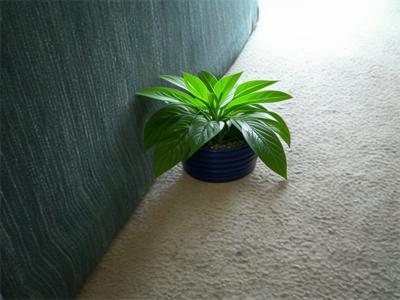pottedplant: (137, 72, 290, 182)
